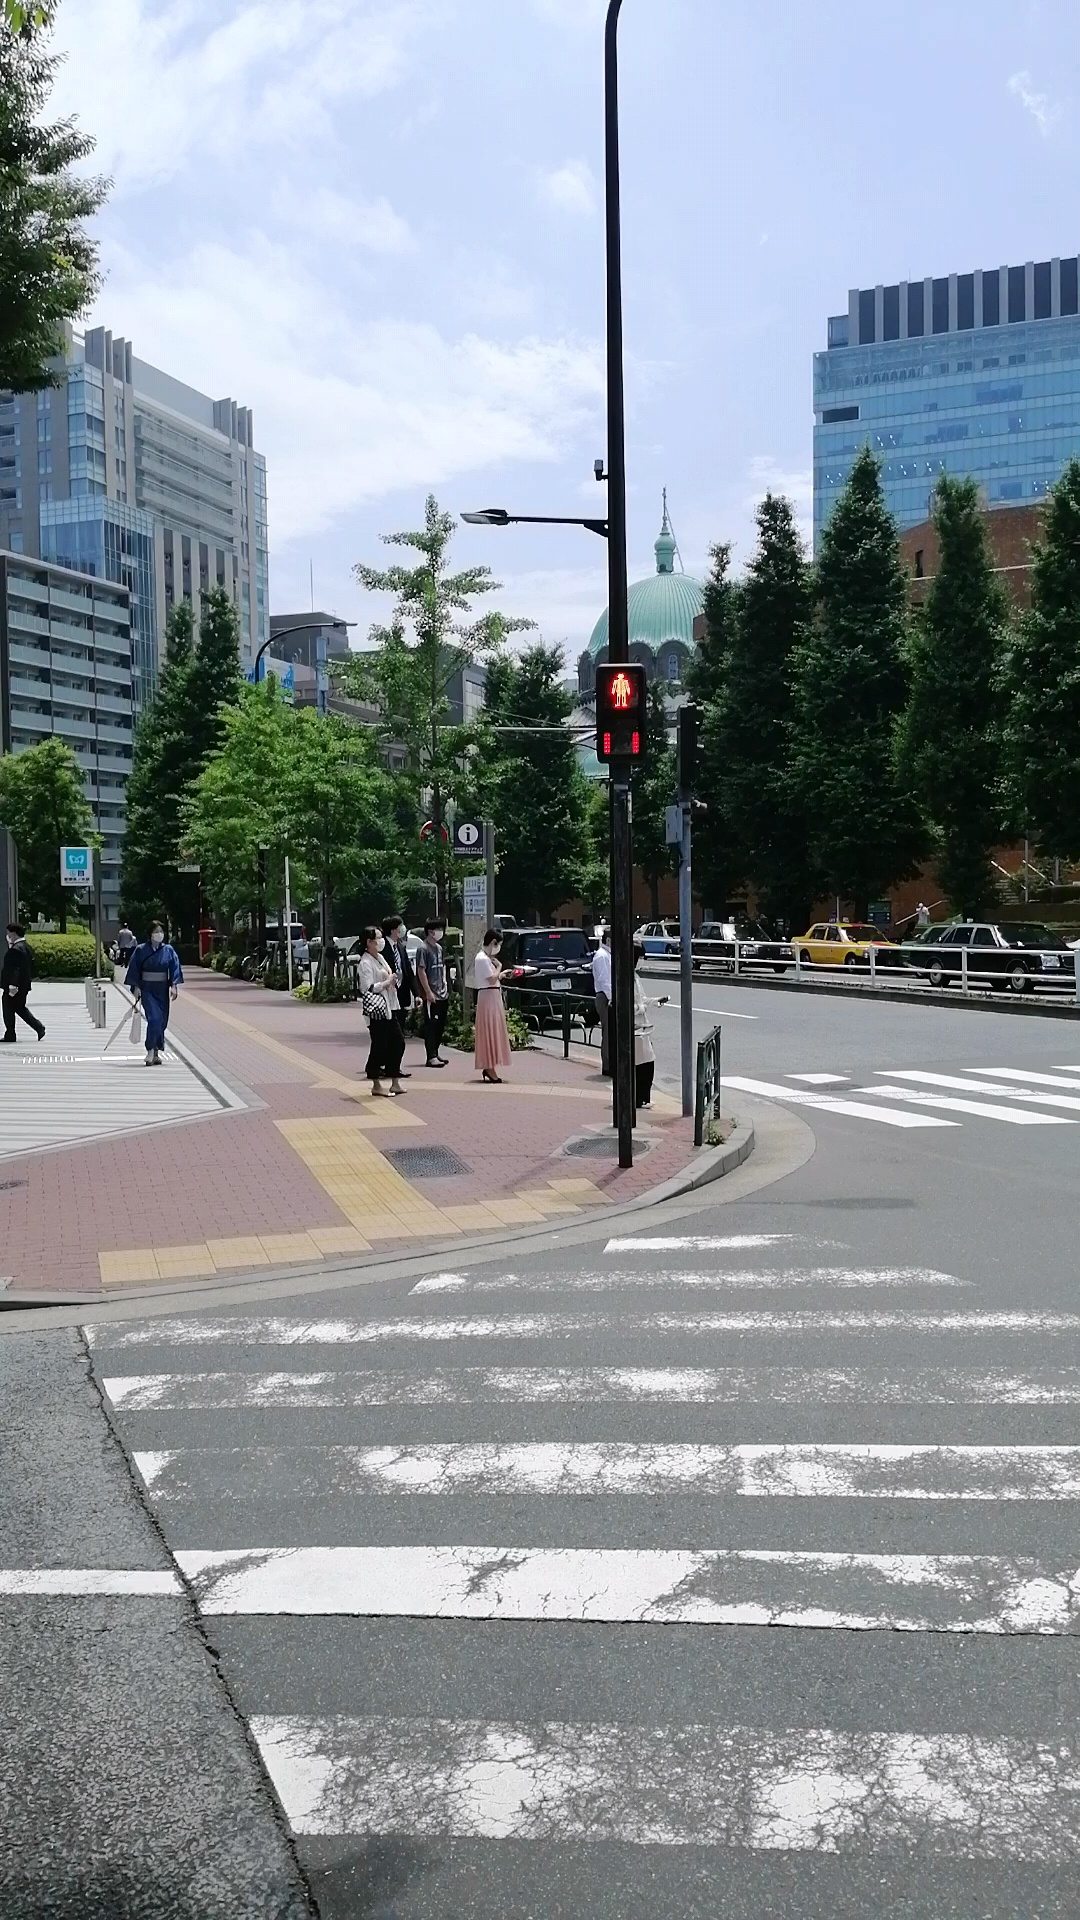red: (595, 659, 650, 762)
